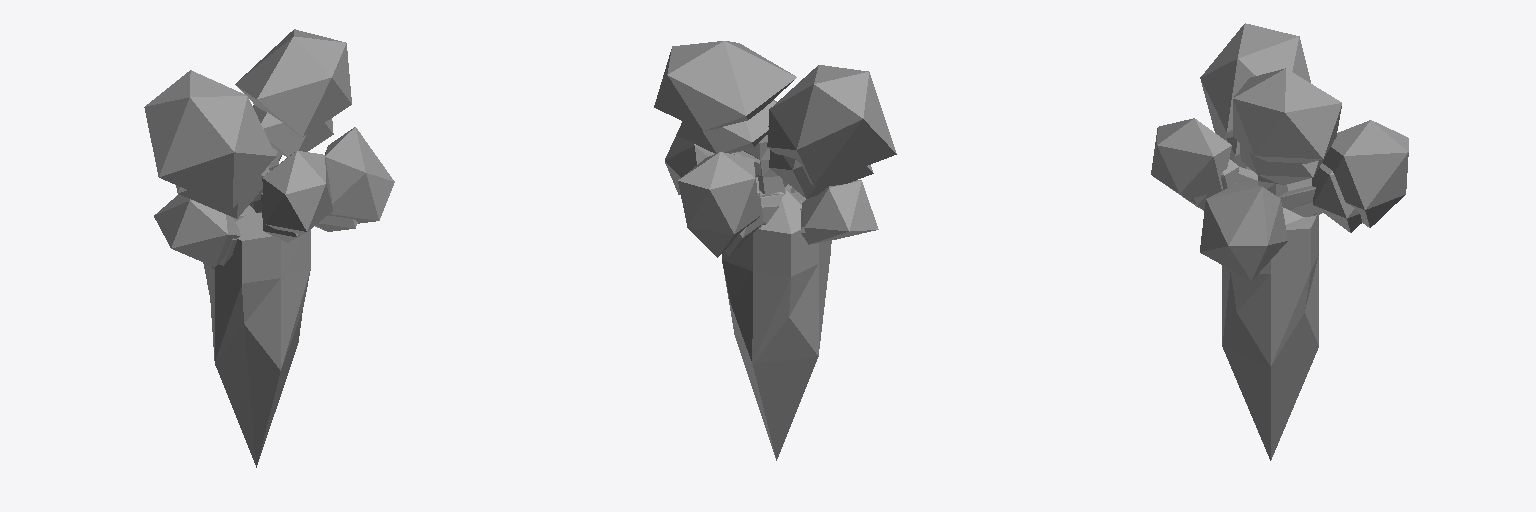
The model's file is tree.obj.
The picture shows the model from 3 angles: view 1: azimuth 30°, elevation 25°; view 2: azimuth 150°, elevation 25°; view 3: azimuth 270°, elevation 25°; orthographic projection.
Parts seen in each view (by area): view 1: Cylinder, Cube.005, Cylinder.001; view 2: Cylinder, Cube.005, Cylinder.001; view 3: Cylinder, Cube.005, Cylinder.001.
Boxes of the visible parts, box(x1,y1,x2,y2) form: Cylinder: box(144, 29, 394, 266); Cube.005: box(203, 205, 310, 467); Cylinder.001: box(176, 105, 357, 265); Cylinder: box(654, 41, 896, 257); Cube.005: box(722, 190, 831, 460); Cylinder.001: box(678, 100, 873, 255); Cylinder: box(1151, 23, 1408, 280); Cube.005: box(1222, 207, 1318, 460); Cylinder.001: box(1191, 137, 1361, 232).
Bounding box in the file's own units: 2.58 × 4.52 × 2.55.